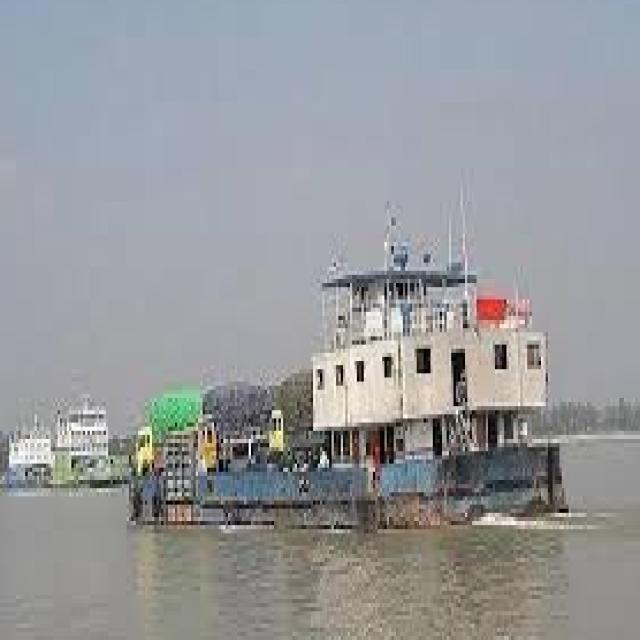cargoship: (122, 203, 577, 558)
